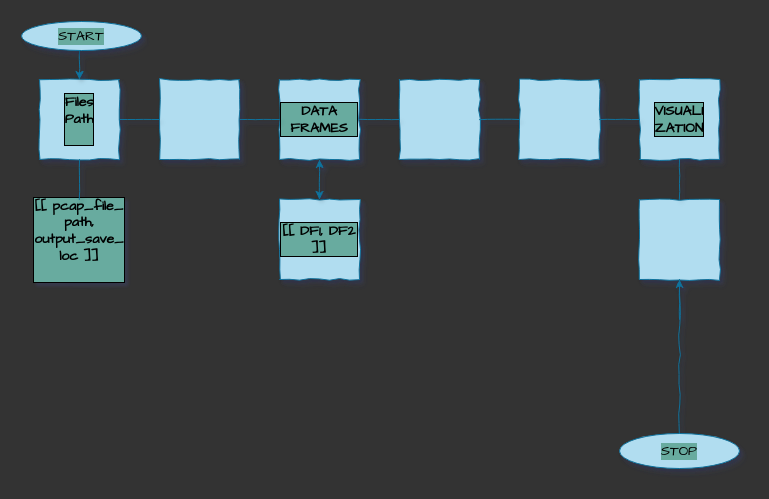
Some shapes in this 769 by 499 pixel diagram are drawn without their labels. Here are the shapes that lost their labels. From the top down, the centre of each, then its label:
At [200,120]: "PCAP FILE".
At [440,120]: "CSV FILES".
At [560,120]: "RE- STRUC TURING".
At [680,240]: "STATS TABLE".
